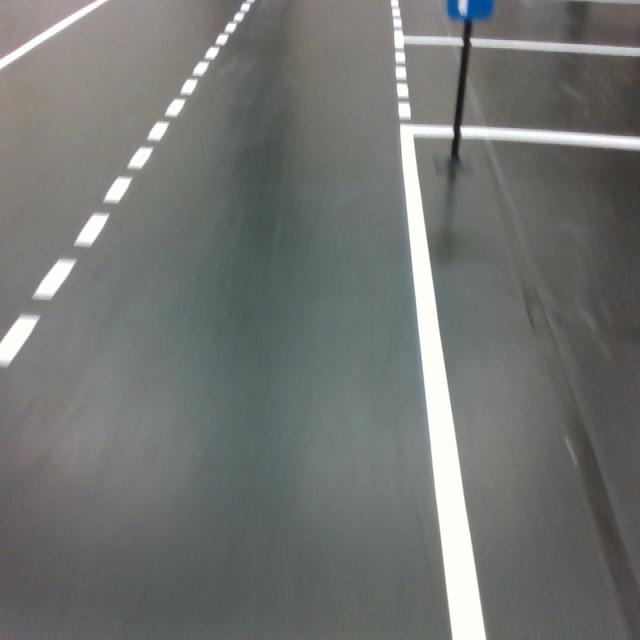parking-sign: (446, 0, 494, 20)
